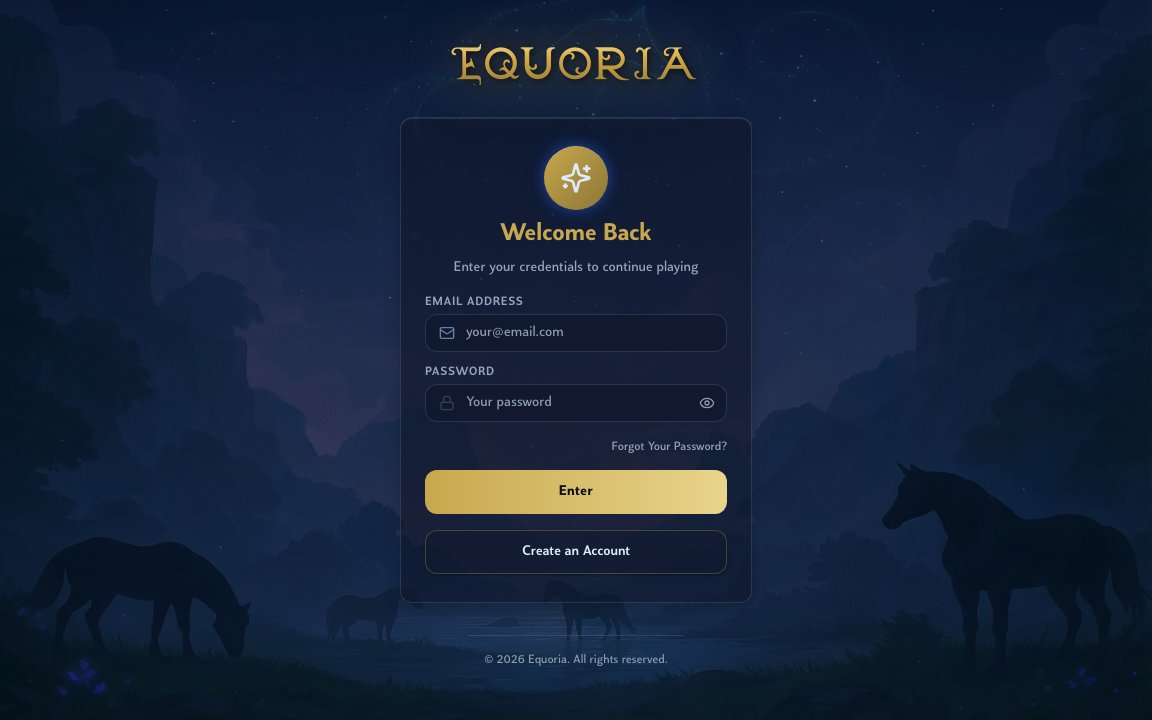
it: LoginPage: conduct refusals › says a banned connection can no longer sign in
The image size is (1152, 720).
Type "john@example.com" into the field labelled "Email Address" at coordinates (576, 332), box [425,314,727,352]
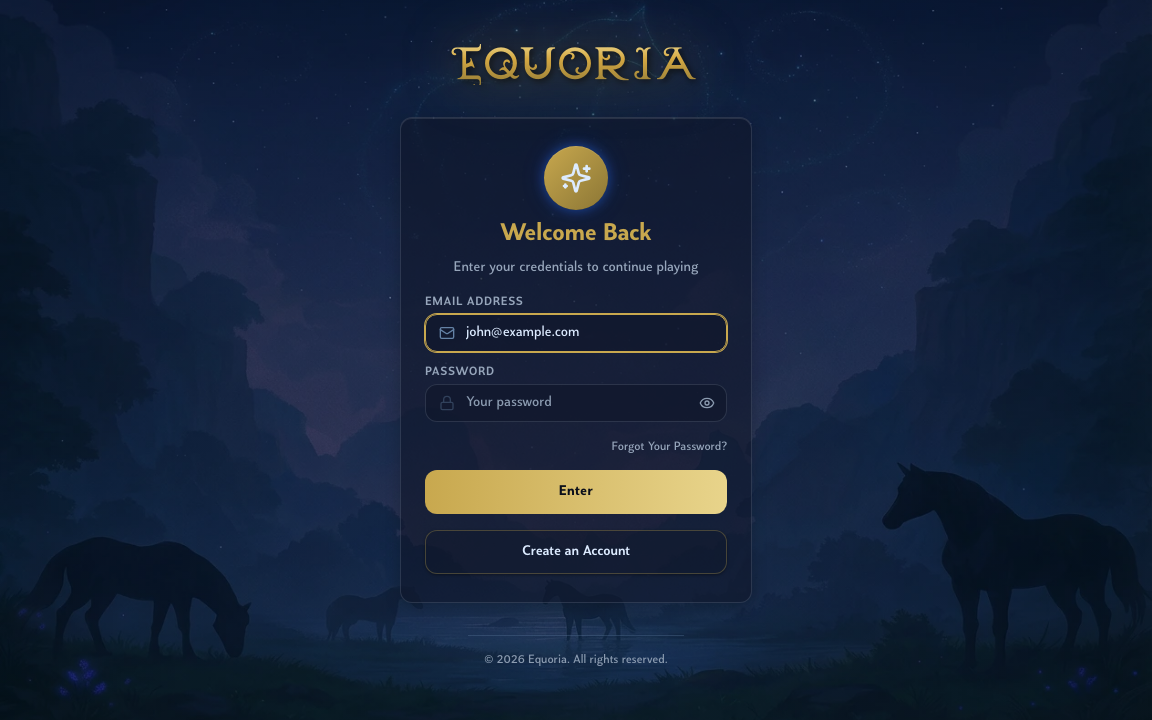
Type "password123" into the password field labelled "Password" at coordinates (576, 402), box [425,384,727,422]
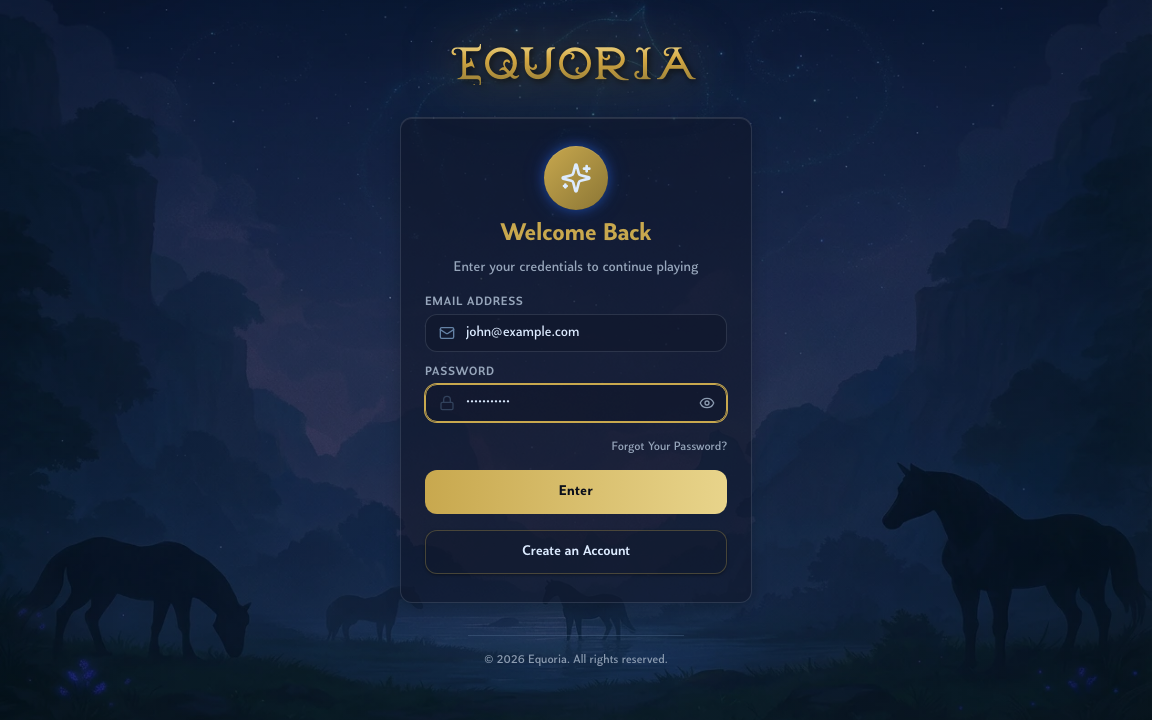
Click the button "Enter" at coordinates (576, 492), box [425,470,727,514]
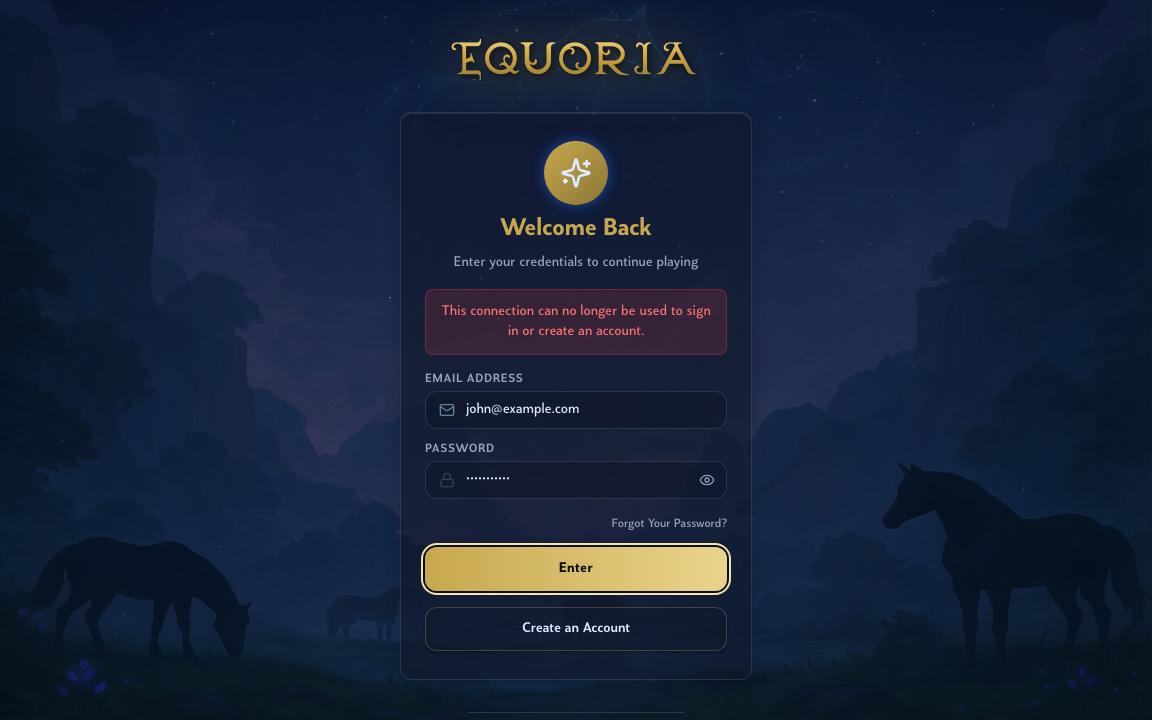
Expected: the text "This connection can no longer be used to sign in or create an account." is shown, [438,302,714,342]
